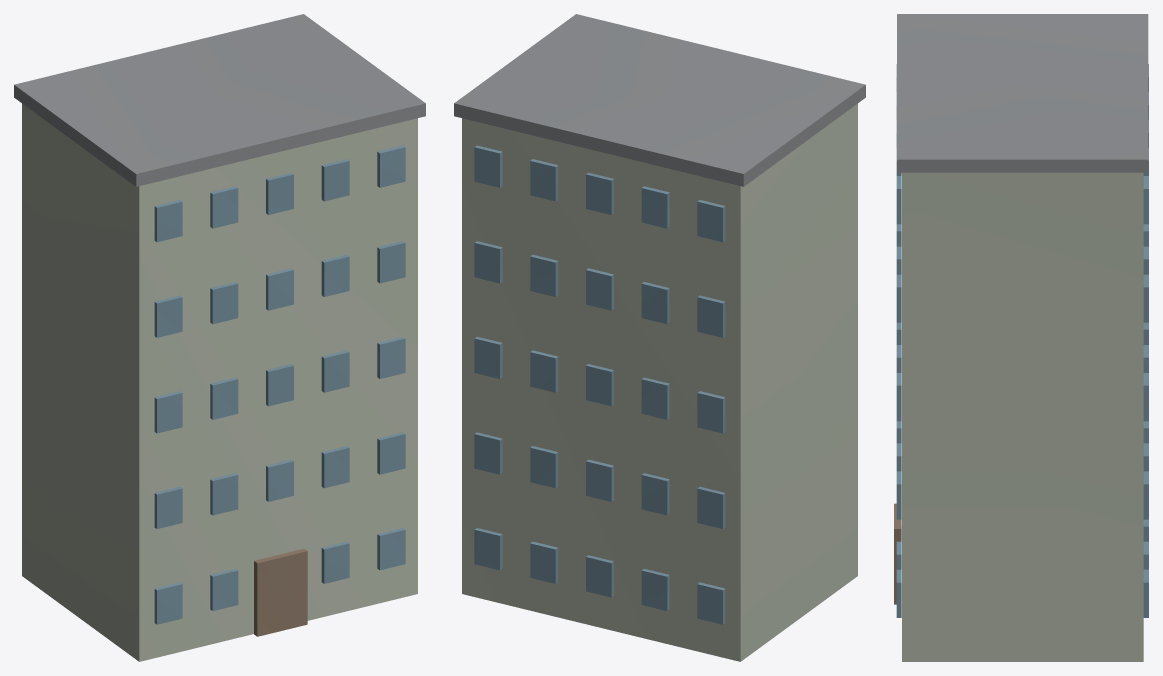
File: apartment-01.glb
3 views of the same model, side by side, from view 1: azimuth 30°, elevation 25°; view 2: azimuth 150°, elevation 25°; view 3: azimuth 270°, elevation 25° (orthographic). The views are drawn at different scales.
Parts seen in each view (by area): view 1: world; view 2: world; view 3: world.
Part boxes in pixels (<box>): world: <box>14,14,425,661</box>; world: <box>454,14,865,661</box>; world: <box>894,14,1148,661</box>.
Size of the model in its own units: 1.65 by 2.67 by 1.22.
